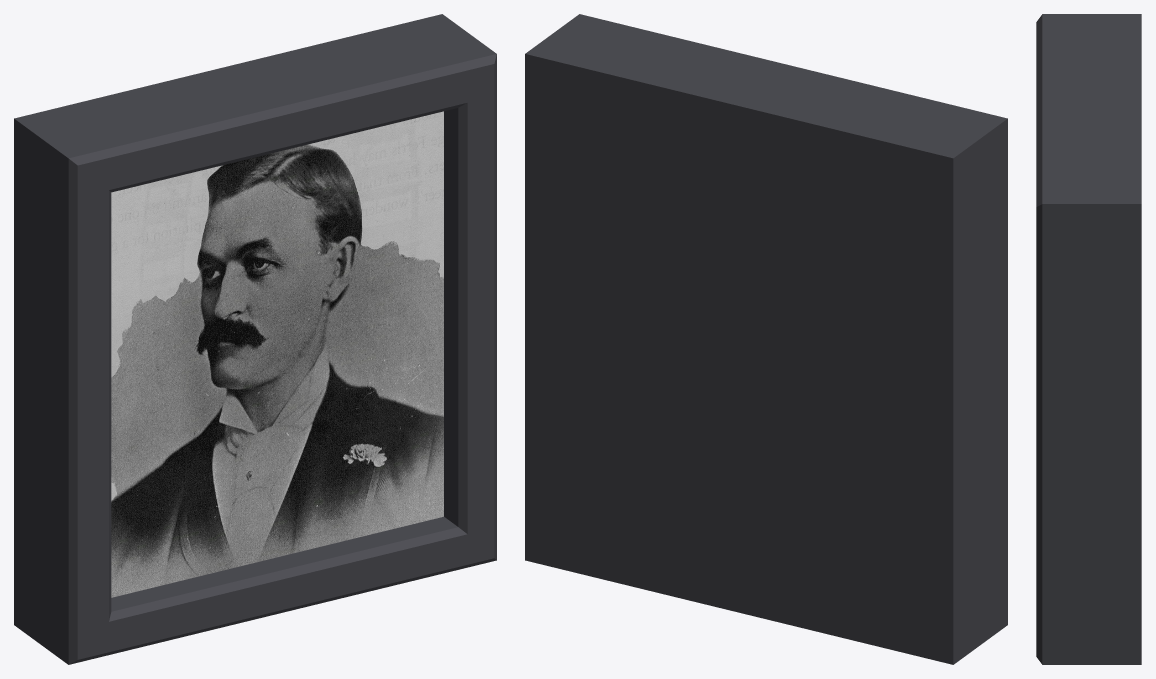
File: george_ferris(1).fbx
The picture shows the model from 3 angles, left to right: view 1: azimuth 30°, elevation 25°; view 2: azimuth 150°, elevation 25°; view 3: azimuth 270°, elevation 25°; orthographic projection. The views are drawn at different scales.
Visible parts, largest first — view 1: GeorgeFerris; view 2: GeorgeFerris; view 3: GeorgeFerris.
Boxes of the visible parts, x1,y1,x2,y2 form: GeorgeFerris: (14,14,496,664); GeorgeFerris: (525,14,1007,664); GeorgeFerris: (1036,14,1141,664).
Bounding box in the file's own units: 2.18 × 2.46 × 0.5089.
2 materials, 1 textured.
